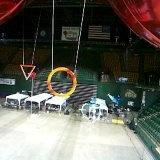Orange_Circle_GShape: (47, 66, 76, 96)
Orange_Triangle_Gshape: (20, 65, 35, 81)
